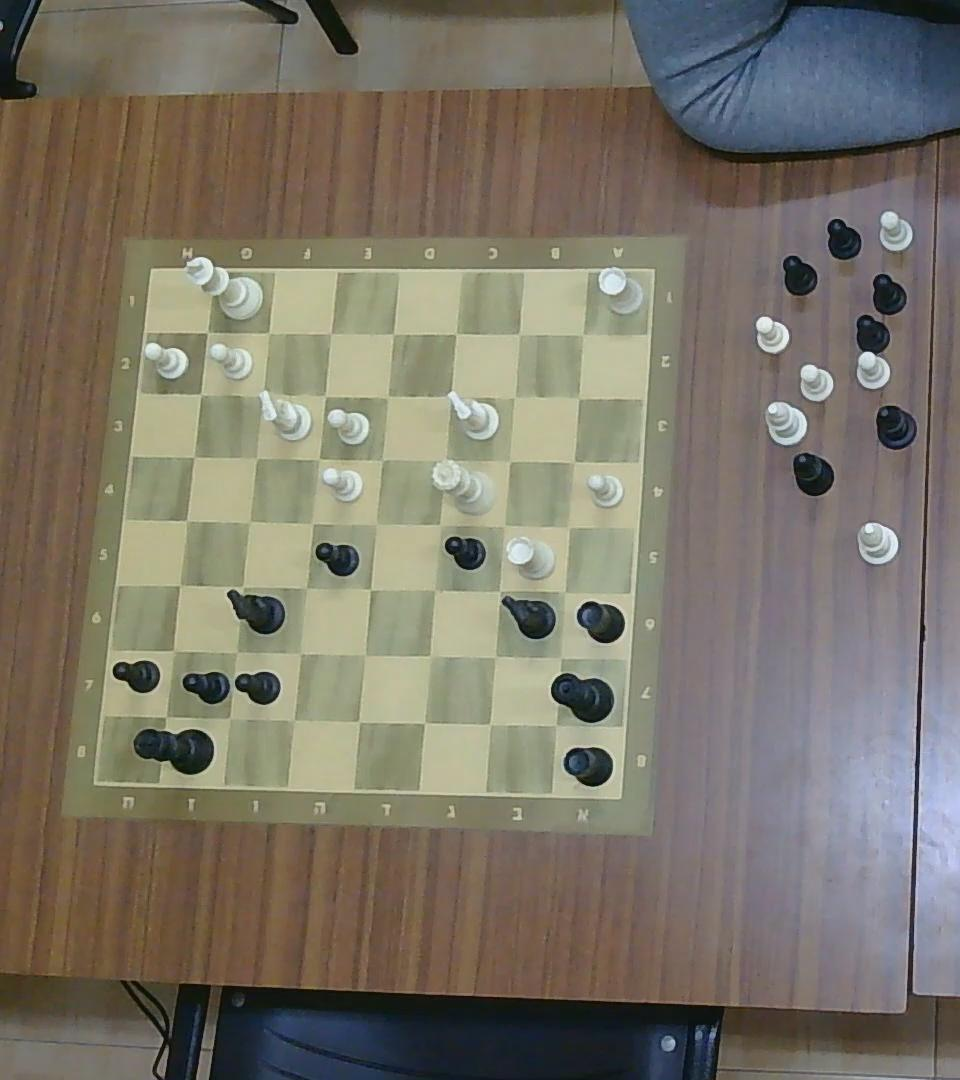xcorner: (215, 703, 242, 731), (411, 708, 437, 735), (153, 702, 179, 728), (280, 705, 305, 732), (346, 707, 371, 733), (167, 572, 192, 598), (477, 711, 503, 736), (417, 643, 442, 669), (543, 712, 568, 738), (352, 642, 377, 667), (482, 645, 506, 670), (561, 448, 586, 472), (236, 508, 259, 534), (376, 383, 399, 409), (318, 319, 341, 345), (288, 640, 311, 665), (175, 507, 198, 531), (364, 512, 387, 536), (558, 514, 581, 538), (294, 575, 317, 599), (162, 639, 185, 663), (427, 512, 450, 536), (432, 448, 455, 472), (549, 646, 573, 669), (381, 321, 403, 346), (492, 513, 515, 536), (196, 320, 218, 344), (224, 639, 246, 663), (422, 578, 444, 602), (438, 384, 460, 408), (251, 381, 273, 405), (182, 445, 204, 468), (300, 512, 323, 534), (444, 322, 466, 345), (359, 577, 381, 600), (487, 579, 510, 601), (553, 581, 576, 603), (231, 575, 253, 598), (258, 320, 279, 344), (189, 381, 210, 405), (245, 446, 267, 468), (568, 385, 590, 407), (371, 447, 392, 470), (499, 448, 519, 472), (509, 323, 530, 345), (308, 447, 328, 470), (572, 323, 592, 345), (504, 386, 524, 406), (315, 384, 334, 405)
